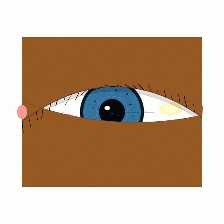pinguecula_lesion: (147, 90, 194, 128)
